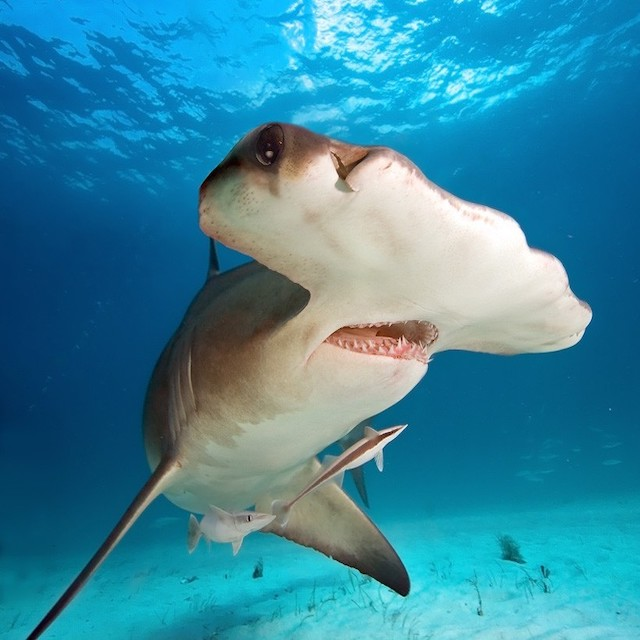hammerhead: (153, 74, 612, 410)
